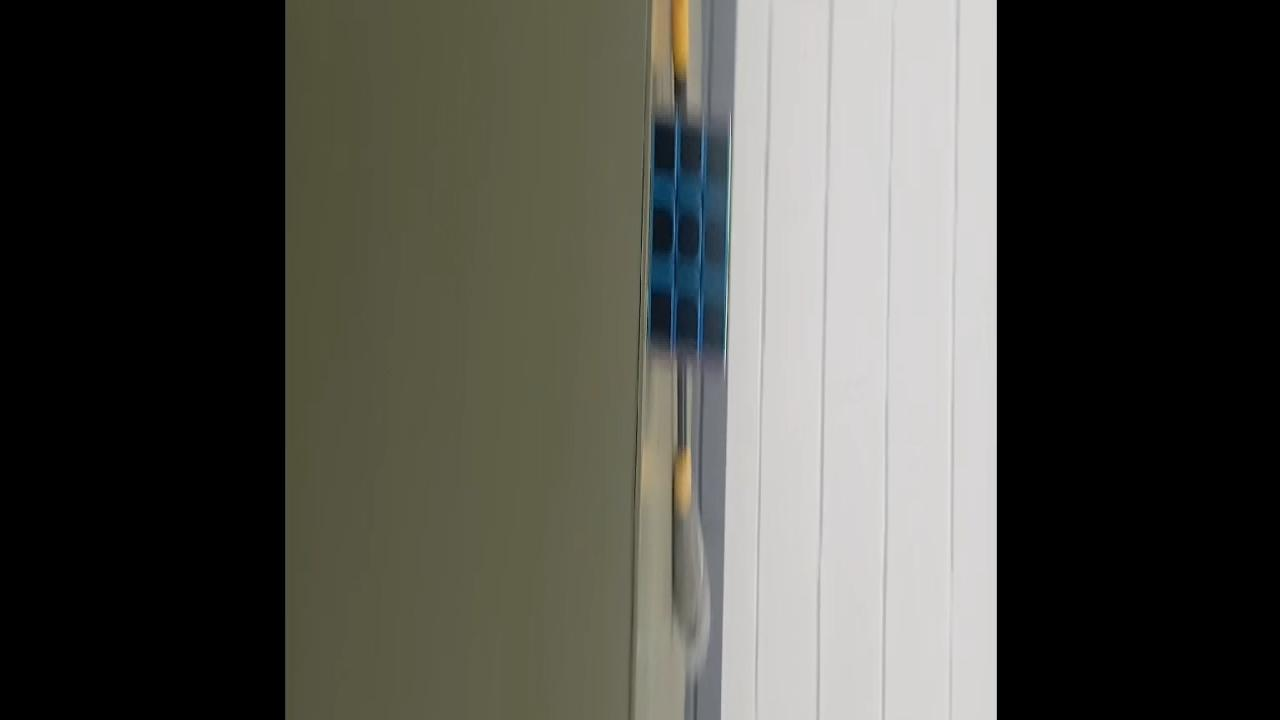Cube: (646, 104, 732, 376)
